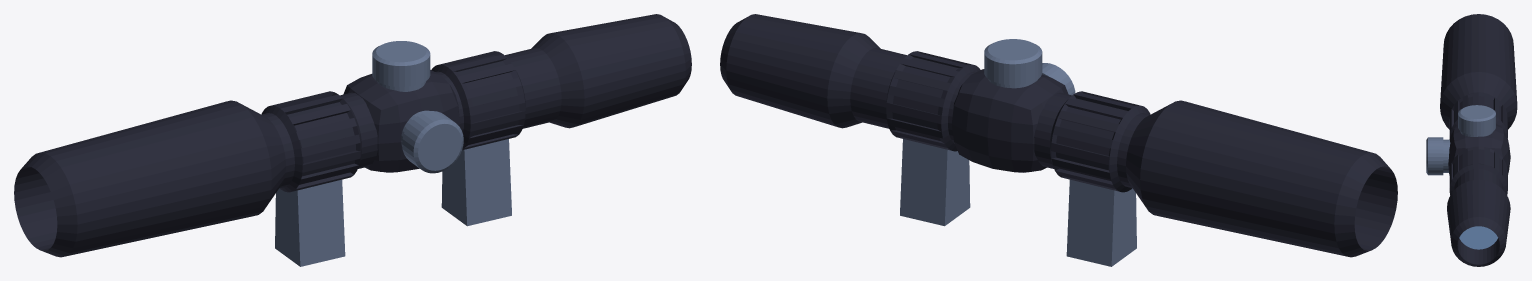
The model's file is scope.glb.
3 views of the same model, side by side, from view 1: azimuth 30°, elevation 25°; view 2: azimuth 150°, elevation 25°; view 3: azimuth 270°, elevation 25° (orthographic). The views are drawn at different scales.
Parts seen in each view (by area): view 1: Cube.001_Cube.001_Material, Cube.001_Cube.001_Material.001; view 2: Cube.001_Cube.001_Material, Cube.001_Cube.001_Material.001; view 3: Cube.001_Cube.001_Material, Cube.001_Cube.001_Material.001, Cube.001_Cube.001_Material.005.
Boxes of the visible parts, x1=… form: Cube.001_Cube.001_Material: x1=14, y1=14, x2=691, y2=257; Cube.001_Cube.001_Material.001: x1=275, y1=41, x2=511, y2=266; Cube.001_Cube.001_Material: x1=720, y1=14, x2=1397, y2=257; Cube.001_Cube.001_Material.001: x1=900, y1=39, x2=1136, y2=266; Cube.001_Cube.001_Material: x1=1440, y1=14, x2=1517, y2=266; Cube.001_Cube.001_Material.001: x1=1426, y1=105, x2=1495, y2=175; Cube.001_Cube.001_Material.005: x1=1459, y1=226, x2=1497, y2=249.
Size of the model in its own units: 3.37 by 0.9063 by 0.6343.
